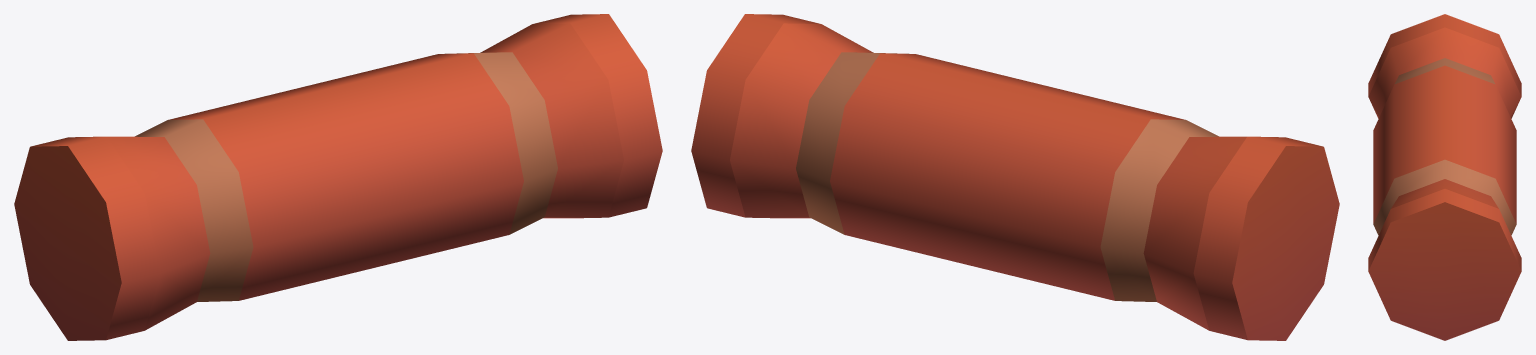
File: bedroll.glb
3 views of the same model, side by side, from view 1: azimuth 30°, elevation 25°; view 2: azimuth 150°, elevation 25°; view 3: azimuth 270°, elevation 25° (orthographic). The views are drawn at different scales.
Parts seen in each view (by area): view 1: m; view 2: m; view 3: m.
Part boxes in pixels (bbox=[...]): m: bbox=[14, 14, 662, 340]; m: bbox=[691, 14, 1339, 340]; m: bbox=[1368, 14, 1521, 340].
Size of the model in its own units: 0.2 by 0.0689 by 0.0689.
